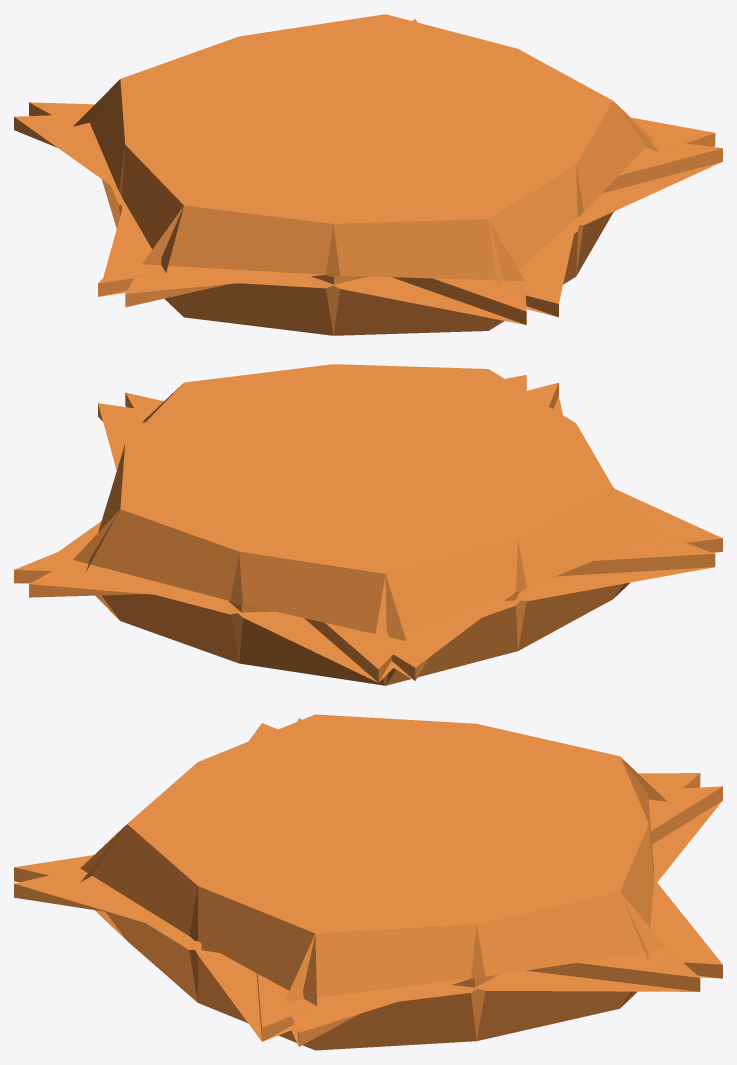
The model's file is starfish.glb.
The picture shows the model from 3 angles, top to bottom: view 1: azimuth 30°, elevation 25°; view 2: azimuth 150°, elevation 25°; view 3: azimuth 270°, elevation 25°; orthographic projection. The views are drawn at different scales.
Parts seen in each view (by area): view 1: starfish; view 2: starfish; view 3: starfish.
Part boxes in pixels (x1,y1,x2,y2): starfish: [14, 14, 722, 335]; starfish: [14, 364, 722, 685]; starfish: [14, 714, 722, 1050].
Size of the model in its own units: 0.2887 by 0.05 by 0.2745.
